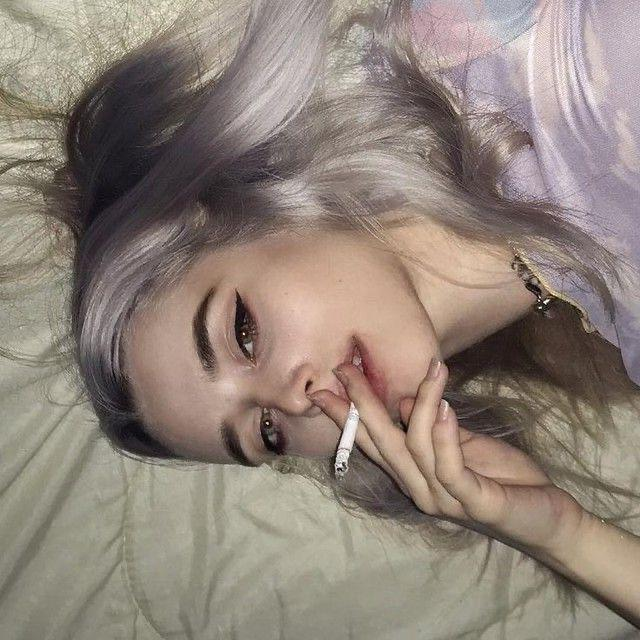cigarette: (308, 353, 378, 492)
